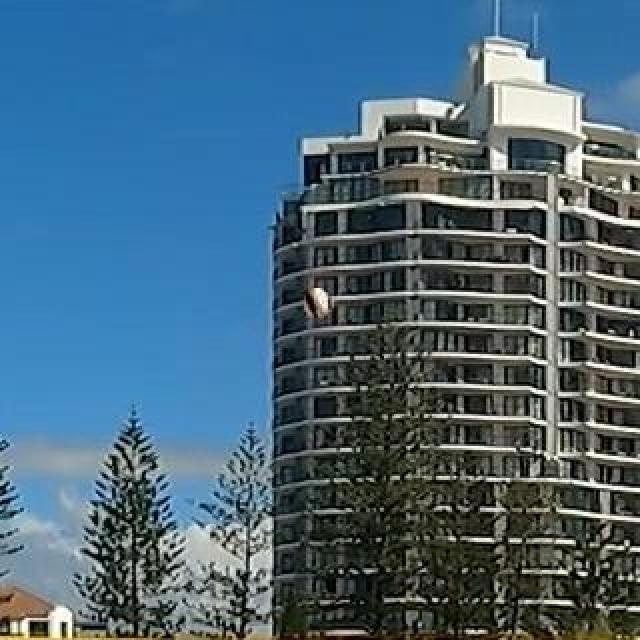volleyball: (306, 289, 332, 319)
